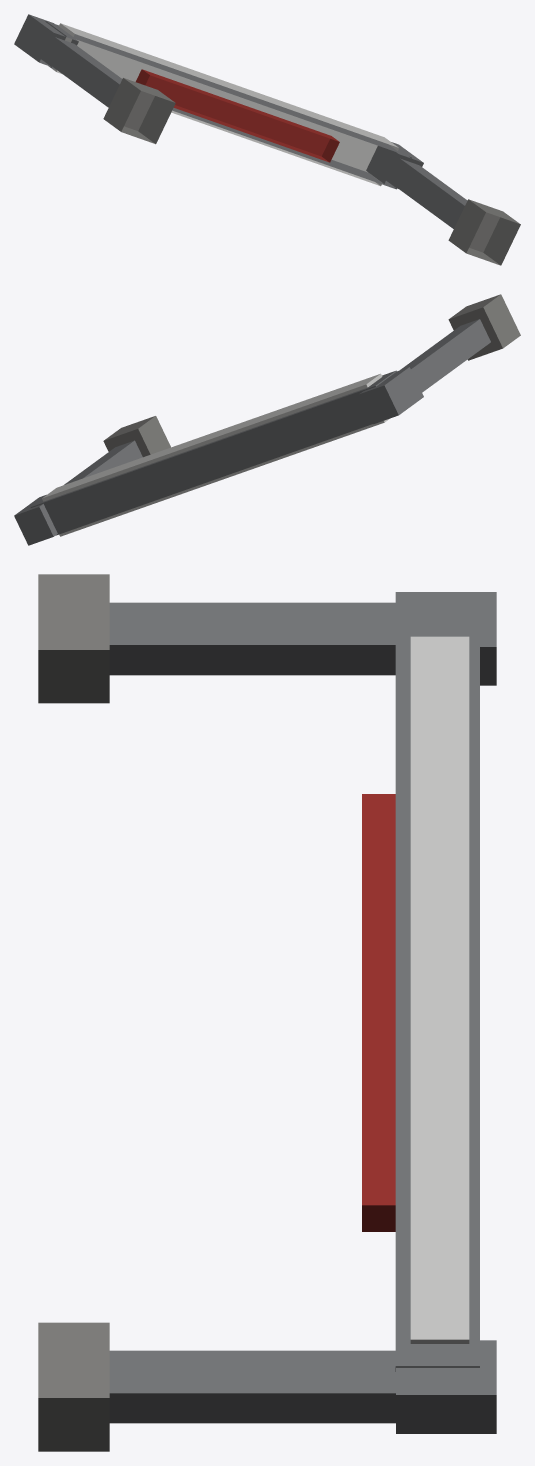
The model's file is Trk_Gantry.fbx.
The picture shows the model from 3 angles, top to bottom: view 1: azimuth 30°, elevation 25°; view 2: azimuth 150°, elevation 25°; view 3: azimuth 270°, elevation 25°; orthographic projection. The views are drawn at different scales.
Visible parts, largest first — view 1: Trk_Gantry; view 2: Trk_Gantry; view 3: Trk_Gantry.
Part boxes in pixels (x1,y1,x2,y2): Trk_Gantry: [14, 14, 520, 265]; Trk_Gantry: [14, 294, 520, 545]; Trk_Gantry: [38, 574, 496, 1451].
Size of the model in its own units: 2194 by 1090 by 1379.
